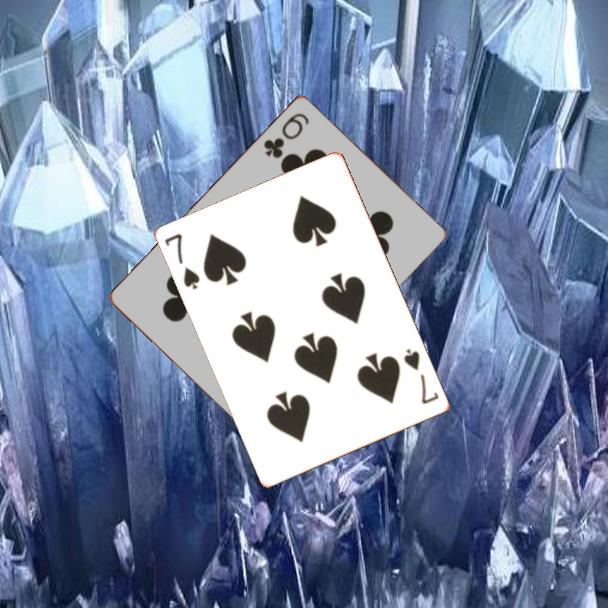c06: (260, 109, 312, 161)
s07: (161, 230, 203, 293), (400, 345, 442, 407)
